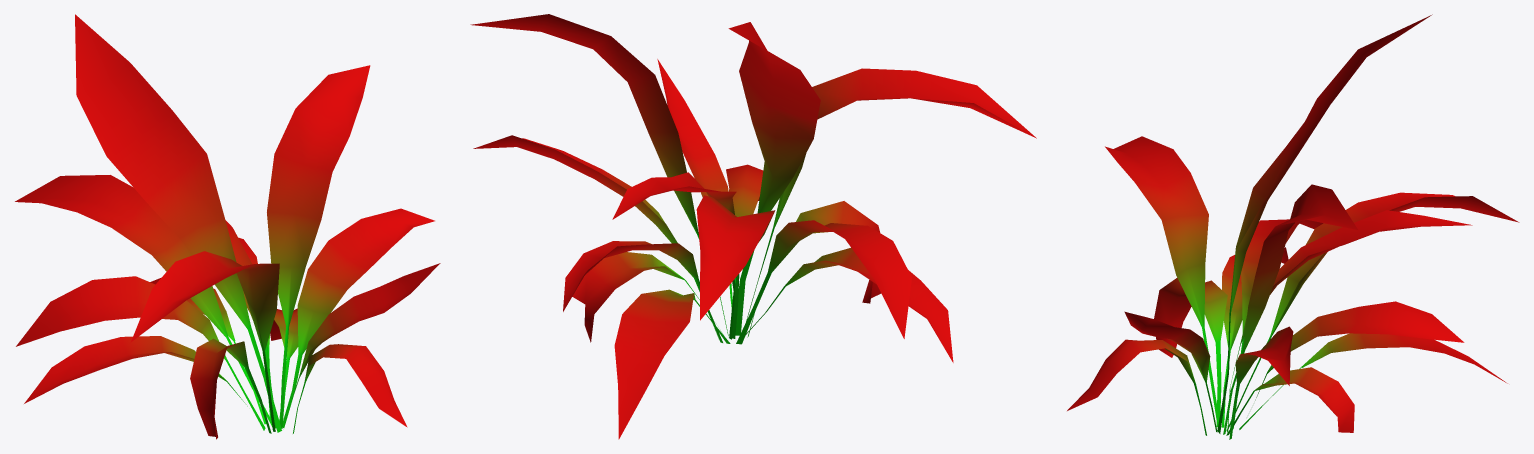
Rendered from Cast - Iron Plant_LOD1_Var2_shdmr.fbx.
3 views of the same model, side by side, from view 1: azimuth 30°, elevation 25°; view 2: azimuth 150°, elevation 25°; view 3: azimuth 270°, elevation 25° (orthographic). The views are drawn at different scales.
Parts seen in each view (by area): view 1: _4c6e_Var2_LOD1; view 2: _4c6e_Var2_LOD1; view 3: _4c6e_Var2_LOD1.
Part boxes in pixels (bbox=[...]): _4c6e_Var2_LOD1: bbox=[15, 14, 440, 439]; _4c6e_Var2_LOD1: bbox=[470, 14, 1036, 439]; _4c6e_Var2_LOD1: bbox=[1067, 14, 1519, 439].
Size of the model in its own units: 61.45 by 52.33 by 57.84.
